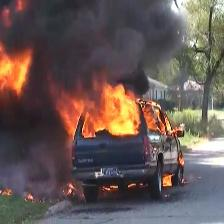fire: (49, 73, 178, 147), (1, 36, 33, 100), (161, 172, 175, 189)
